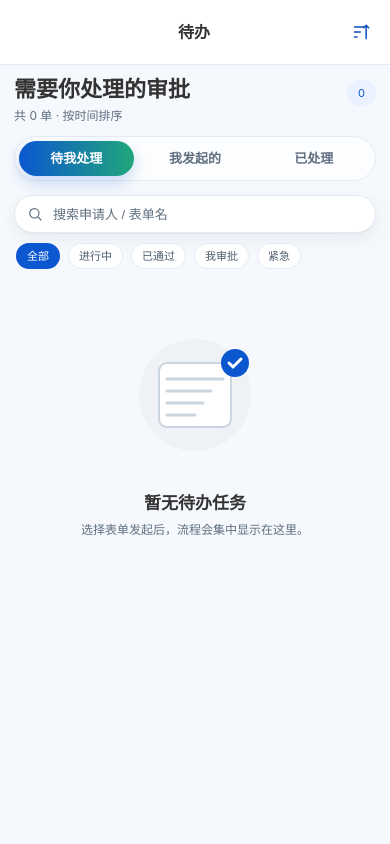
Test case: TaskCenterPage › shows empty and error states for task lists
expect the heading "暂无待办任务" is shown: met, box [144, 491, 246, 516]
Click the tab "已处理".
click(314, 158)  # box [256, 140, 371, 176]
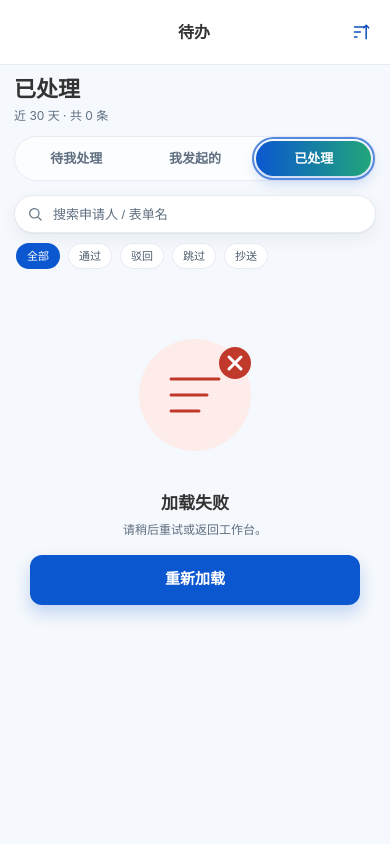
expect the message shows "加载失败": met, box [161, 493, 229, 513]
